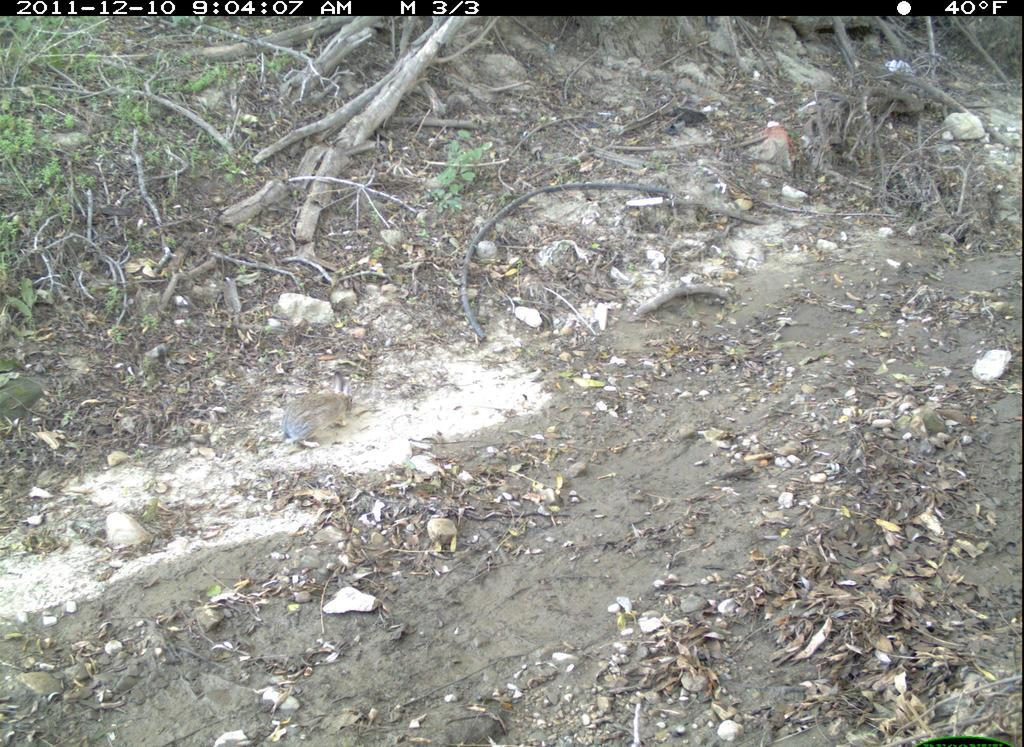rabbit: (271, 368, 383, 452)
